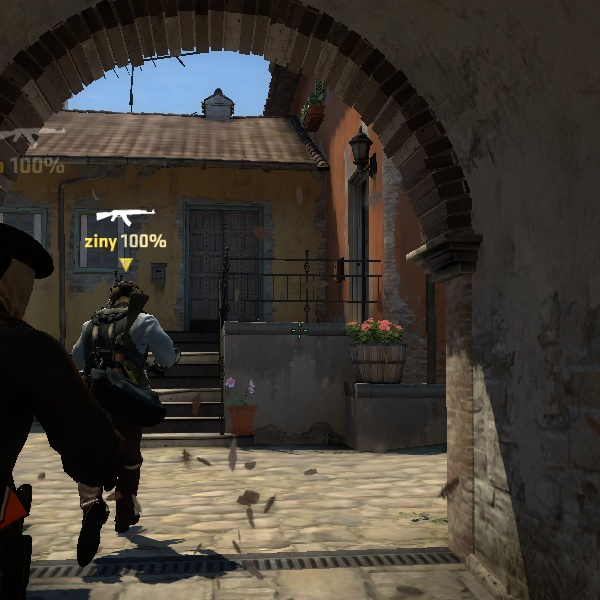ct_body: (26, 268, 188, 572)
ct_head: (96, 273, 153, 325)
